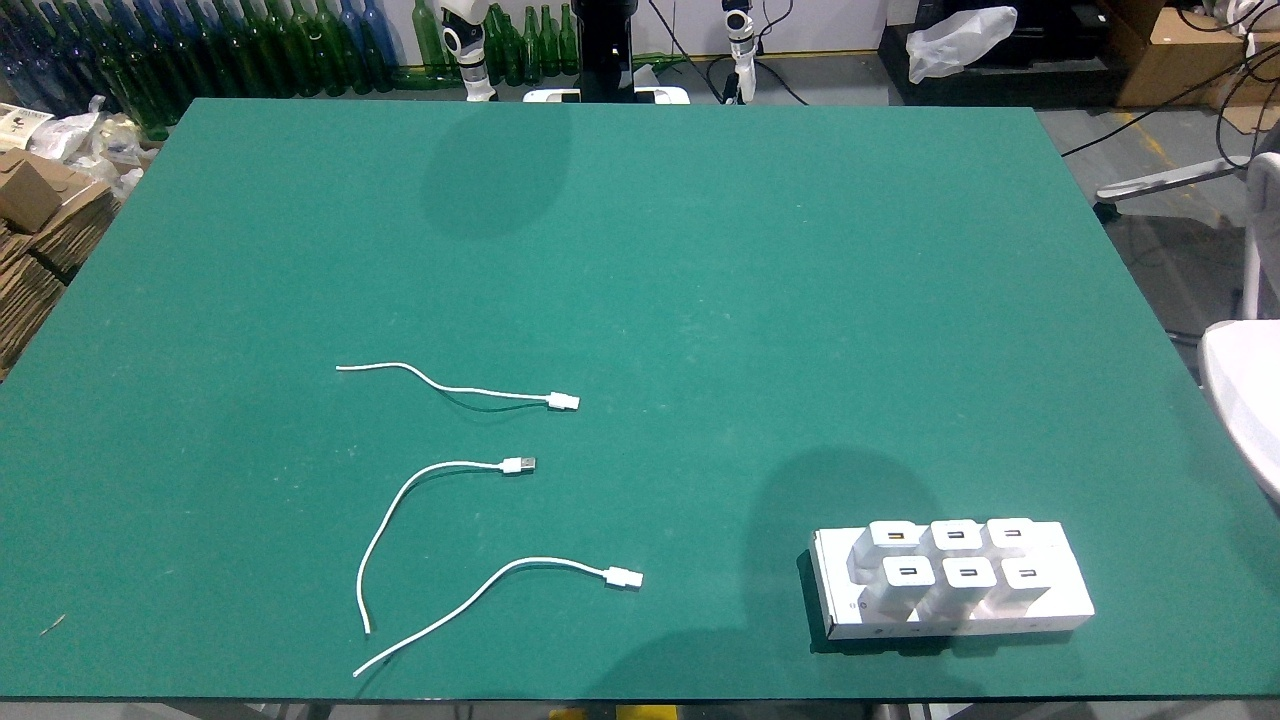usb_a_plug: (572, 557, 658, 594), (526, 386, 590, 416), (477, 455, 544, 477)
